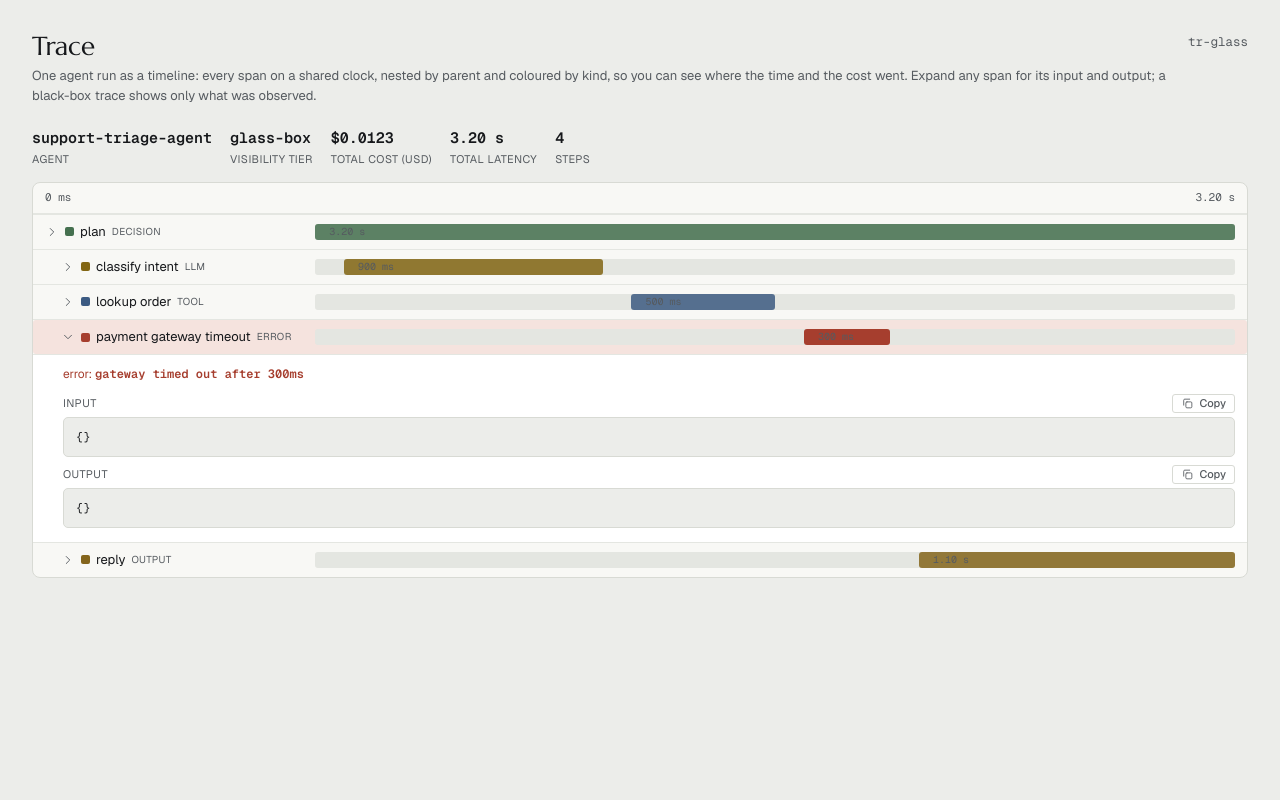
Test: TraceViewerPage › expands a span to a JSON view with a copy button and LLM annotations
Click the button with class "trace-row" showing "classify intent llm 900 ms" at (640, 267), box [33,250,1247,284]
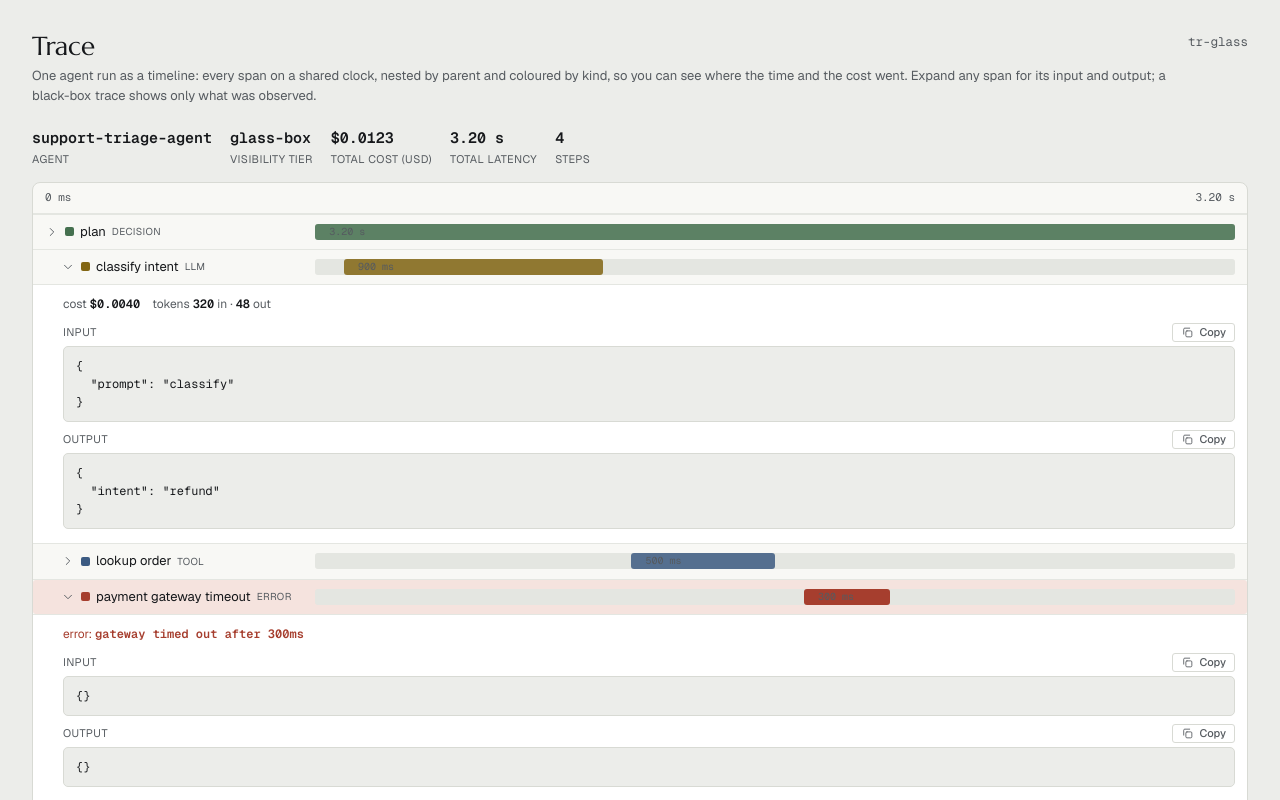
Check: the element with id "trace-detail-llm-1" shows "320", box [193,296,214,312]
Check: the element with id "trace-detail-llm-1" shows "intent", box [76,465,220,517]
Check: the 1st button with class "trace-copy-btn" is shown, box [1172,323,1235,342]
